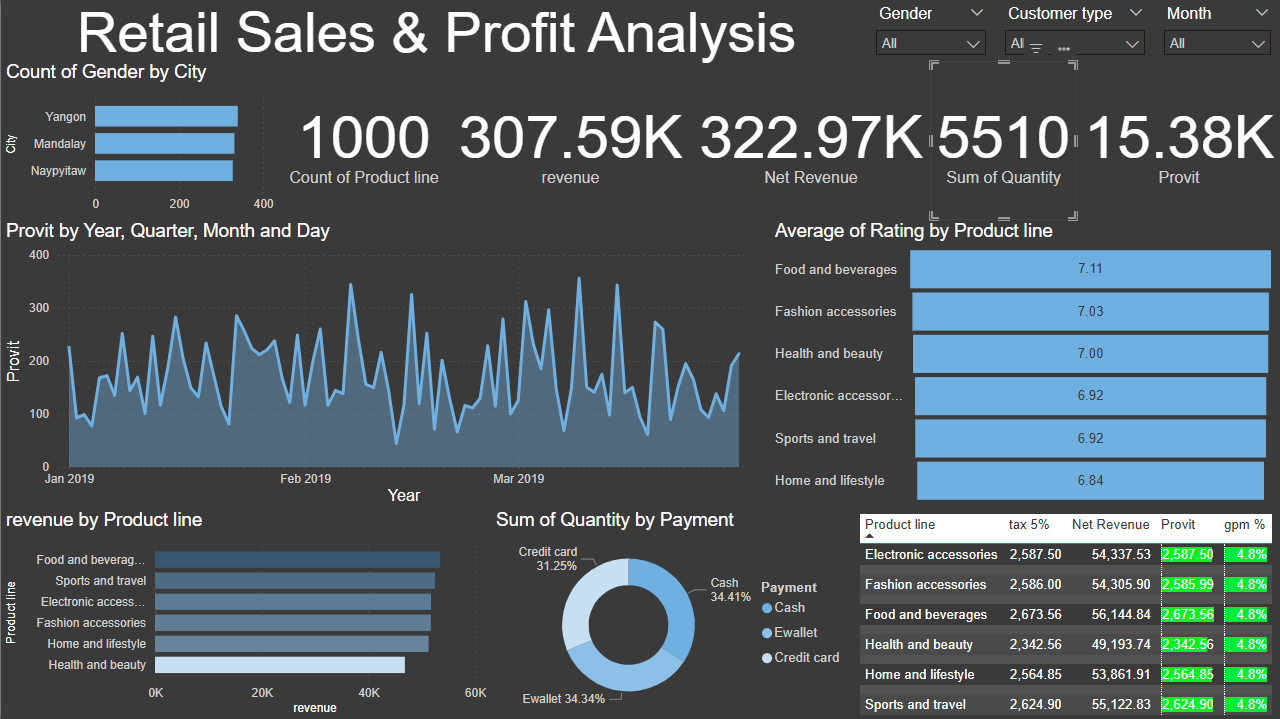

What the dashboard file says about the page in this screenshot:
{"tool":"powerbi","page":{"name":"Page 1","canvas":[1280,720],"ordinal":0},"visuals":[{"type":"shape","box":[0,0,1280,720],"z":0},{"type":"tableEx","fields":{"Values":["supermarket_sales.Product line","supermarket_sales.tax 5%","supermarket_sales.Net Revenue","supermarket_sales.Provit","supermarket_sales.gpm %"]},"box":[852.5,508.8,427.5,211.2],"z":1000},{"type":"donutChart","fields":{"Y":["Sum(supermarket_sales.Quantity)"],"Category":["supermarket_sales.Payment"]},"box":[490,508.8,362.5,211.2],"z":2000},{"type":"barChart","fields":{"Category":["supermarket_sales.Product line"],"Y":["supermarket_sales.revenue"]},"box":[0,508.8,490,211.2],"z":3000},{"type":"areaChart","fields":{"Y":["supermarket_sales.Provit"],"Category":["supermarket_sales.Date.Variation.Date Hierarchy.Year","supermarket_sales.Date.Variation.Date Hierarchy.Quarter","supermarket_sales.Date.Variation.Date Hierarchy.Month","supermarket_sales.Date.Variation.Date Hierarchy.Day"]},"box":[0,220,768.8,288.8],"z":4000},{"type":"funnel","fields":{"Y":["Avg(supermarket_sales.Rating)"],"Category":["supermarket_sales.Product line"]},"box":[768.8,220,511.2,288.8],"z":5000},{"type":"card","fields":{"Values":["CountNonNull(supermarket_sales.Product line)"]},"box":[277.5,61.2,170,158.8],"z":6000},{"type":"card","fields":{"Values":["Sum(supermarket_sales.Quantity)"]},"box":[928.8,61.2,147.5,158.8],"z":7000},{"type":"card","fields":{"Values":["supermarket_sales.revenue"]},"box":[447.5,61.2,243.8,158.8],"z":8000},{"type":"card","fields":{"Values":["supermarket_sales.Net Revenue"]},"box":[691.2,61.2,237.5,158.8],"z":9000},{"type":"card","fields":{"Values":["supermarket_sales.Provit"]},"box":[1076.2,61.2,203.8,158.8],"z":10000},{"type":"slicer","fields":{"Values":["supermarket_sales.Gender"]},"box":[865,0,130,66.4],"z":11000},{"type":"slicer","fields":{"Values":["supermarket_sales.Customer type"]},"box":[994.3,0,159.3,66.4],"z":12000},{"type":"slicer","fields":{"Values":["supermarket_sales.Date.Variation.Date Hierarchy.Month"]},"box":[1152.5,0,127.5,71.2],"z":13000},{"type":"textbox","title":"Retail Sales & Profit Analysis Dashboard","box":[0,0,871.4,66.4],"z":14000},{"type":"clusteredBarChart","fields":{"Category":["supermarket_sales.City"],"Y":["CountNonNull(supermarket_sales.Gender)"]},"box":[0,61.2,277.5,158.8],"z":15000}]}

Visuals, with their boxes in screenshot pixels (x1, y1, x2, y2), scaled from the page's 1280x720 canvas onto the 1280x719 screenshot:
shape: BBox(0, 0, 1279, 718)
tableEx - supermarket_sales.Product line x supermarket_sales.tax 5%: BBox(852, 508, 1279, 718)
donutChart - Sum(supermarket_sales.Quantity) x supermarket_sales.Payment: BBox(490, 508, 852, 718)
barChart - supermarket_sales.Product line x supermarket_sales.revenue: BBox(0, 508, 490, 718)
areaChart - supermarket_sales.Provit x supermarket_sales.Date.Variation.Date Hierarchy.Year: BBox(0, 220, 769, 508)
funnel - Avg(supermarket_sales.Rating) x supermarket_sales.Product line: BBox(769, 220, 1279, 508)
card - CountNonNull(supermarket_sales.Product line): BBox(278, 61, 448, 220)
card - Sum(supermarket_sales.Quantity): BBox(929, 61, 1076, 220)
card - supermarket_sales.revenue: BBox(448, 61, 691, 220)
card - supermarket_sales.Net Revenue: BBox(691, 61, 929, 220)
card - supermarket_sales.Provit: BBox(1076, 61, 1279, 220)
slicer - supermarket_sales.Gender: BBox(865, 0, 995, 66)
slicer - supermarket_sales.Customer type: BBox(994, 0, 1154, 66)
slicer - supermarket_sales.Date.Variation.Date Hierarchy.Month: BBox(1152, 0, 1279, 71)
"Retail Sales & Profit Analysis Dashboard" textbox: BBox(0, 0, 871, 66)
clusteredBarChart - supermarket_sales.City x CountNonNull(supermarket_sales.Gender): BBox(0, 61, 278, 220)
